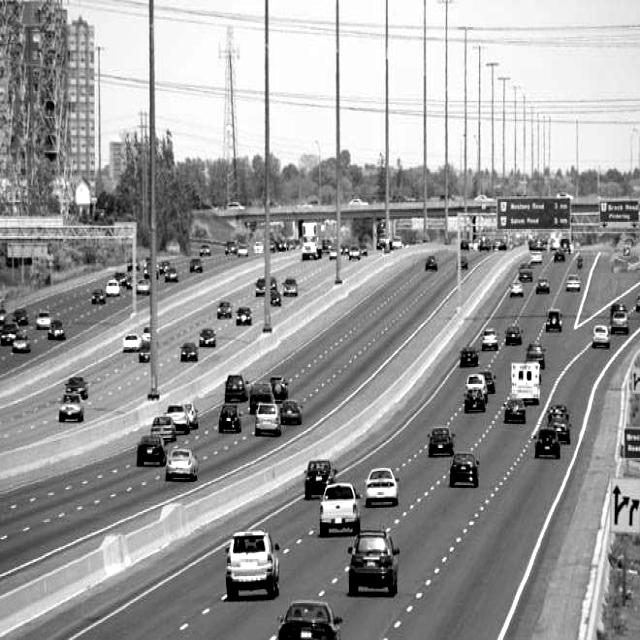cleat: (94, 166, 640, 640)
